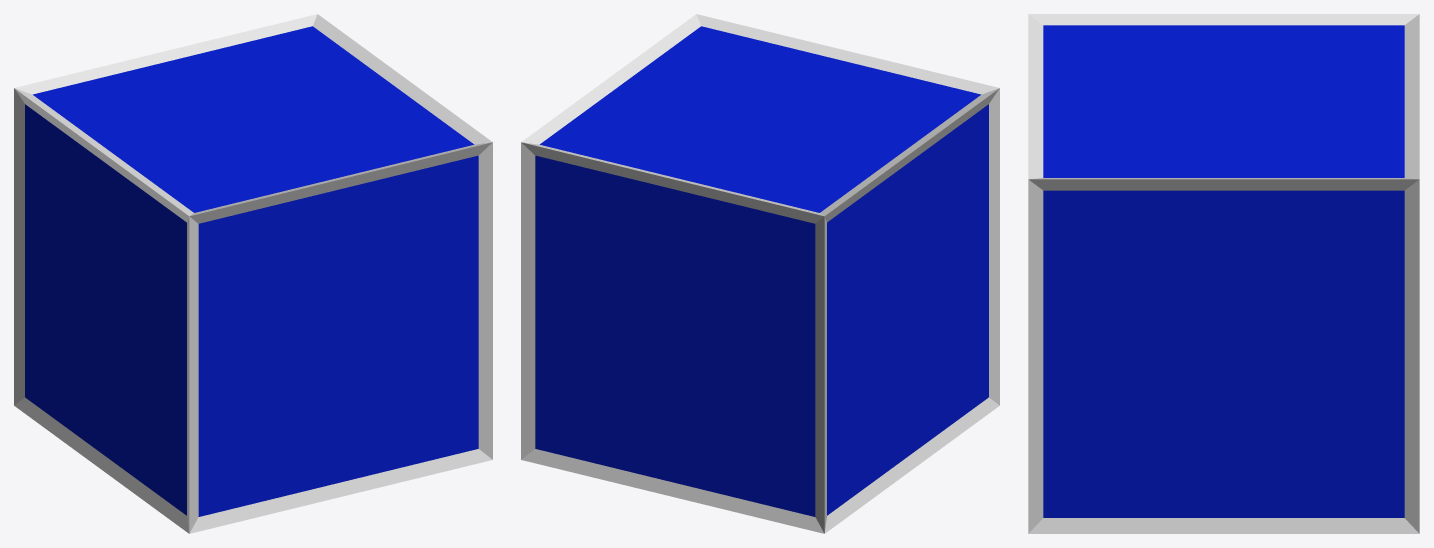
Rendered from BoundingBoxMouse.glb.
3 renders of one model, left to right at view 1: azimuth 30°, elevation 25°; view 2: azimuth 150°, elevation 25°; view 3: azimuth 270°, elevation 25°, orthographic. The views are drawn at different scales.
Visible parts, largest first — view 1: Cube.001; view 2: Cube.001; view 3: Cube.001.
Boxes of the visible parts, box(x1,y1,x2,y2) form: Cube.001: box(14, 14, 492, 533); Cube.001: box(521, 14, 999, 533); Cube.001: box(1028, 14, 1419, 533).
Size of the model in its own units: 2.06 by 2.06 by 2.06.
